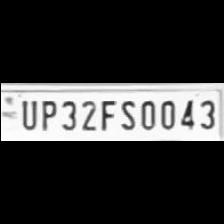0: (136, 96, 156, 130), (156, 96, 176, 130)
2: (78, 97, 96, 132)
3: (196, 96, 216, 130), (58, 97, 76, 131)
4: (177, 96, 195, 130)
F: (96, 97, 114, 131)
P: (36, 97, 56, 131)
S: (116, 97, 136, 131)
U: (15, 97, 35, 131)
